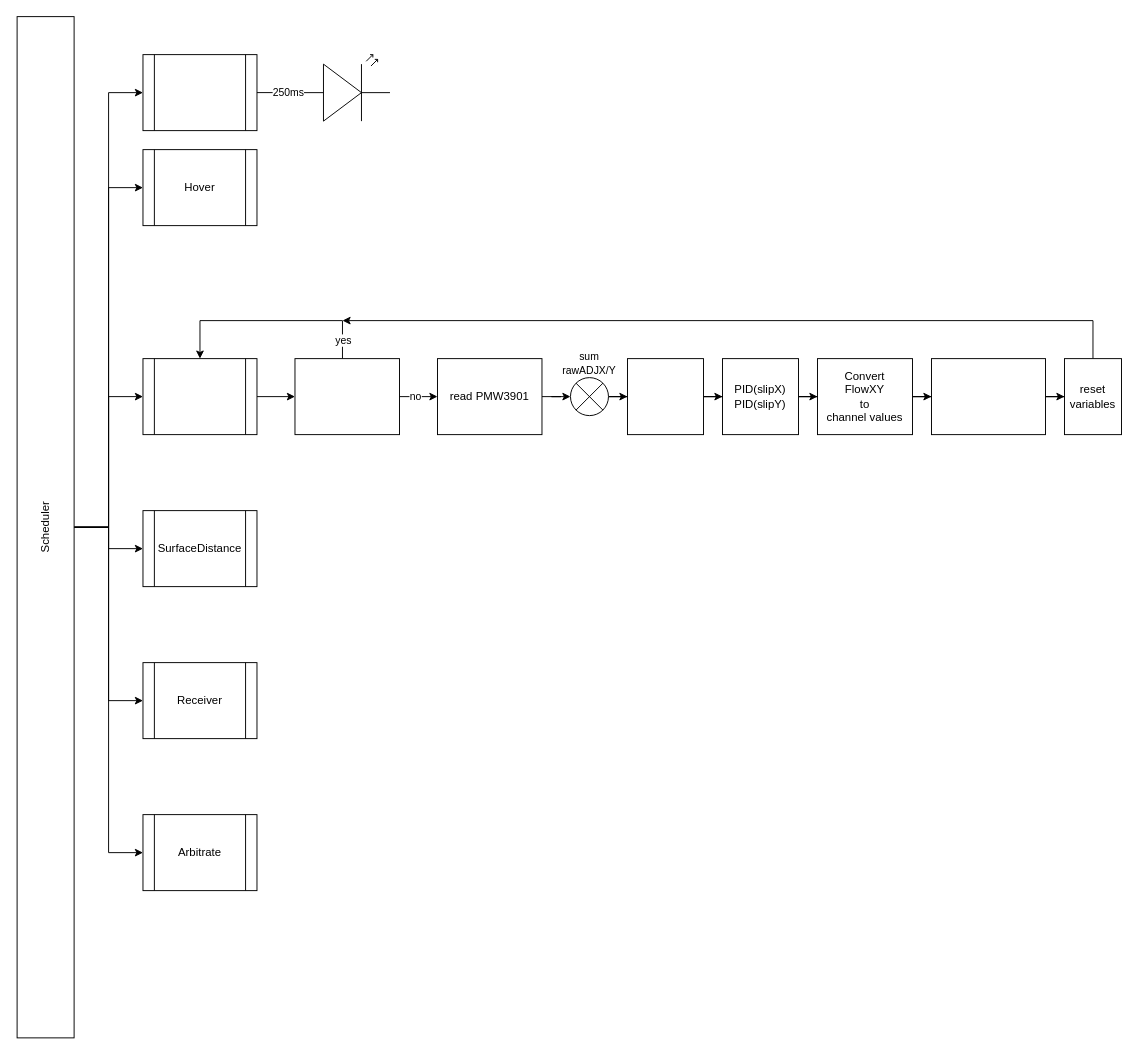
Image size: 1138x1055. Some labels were removed from this diagram. Each missing label, with the box of its shape:
check Gimbal(R/P/Y) centered flowCounter < 100: (294, 358, 399, 435)
HeartBeat: (142, 54, 257, 131)
OpticalFlow: (142, 358, 257, 435)
set ID= set channelData set updated=True: (931, 358, 1045, 435)
set slipX/slipY: (627, 358, 703, 435)
